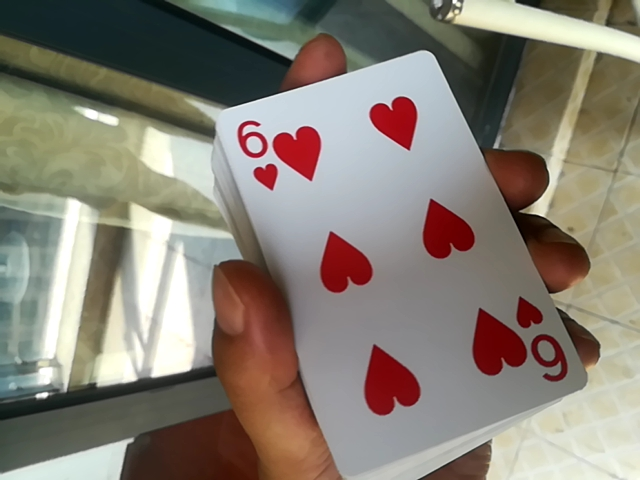hx 6: (205, 46, 597, 461)
